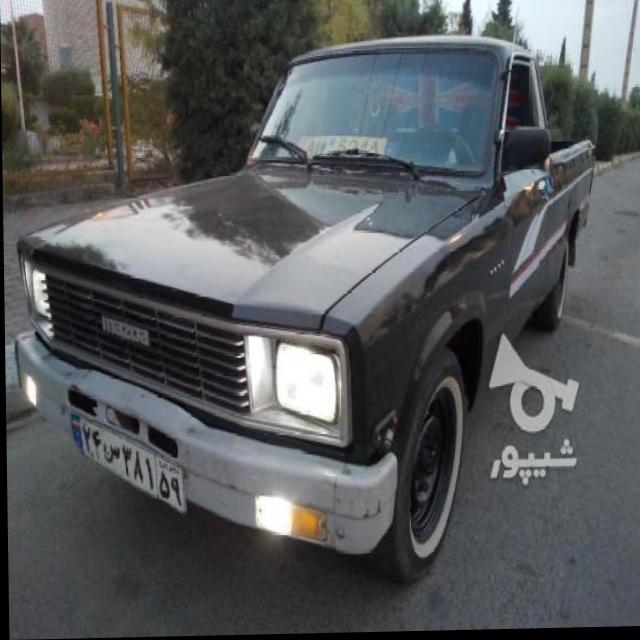licence: (65, 409, 184, 514)
